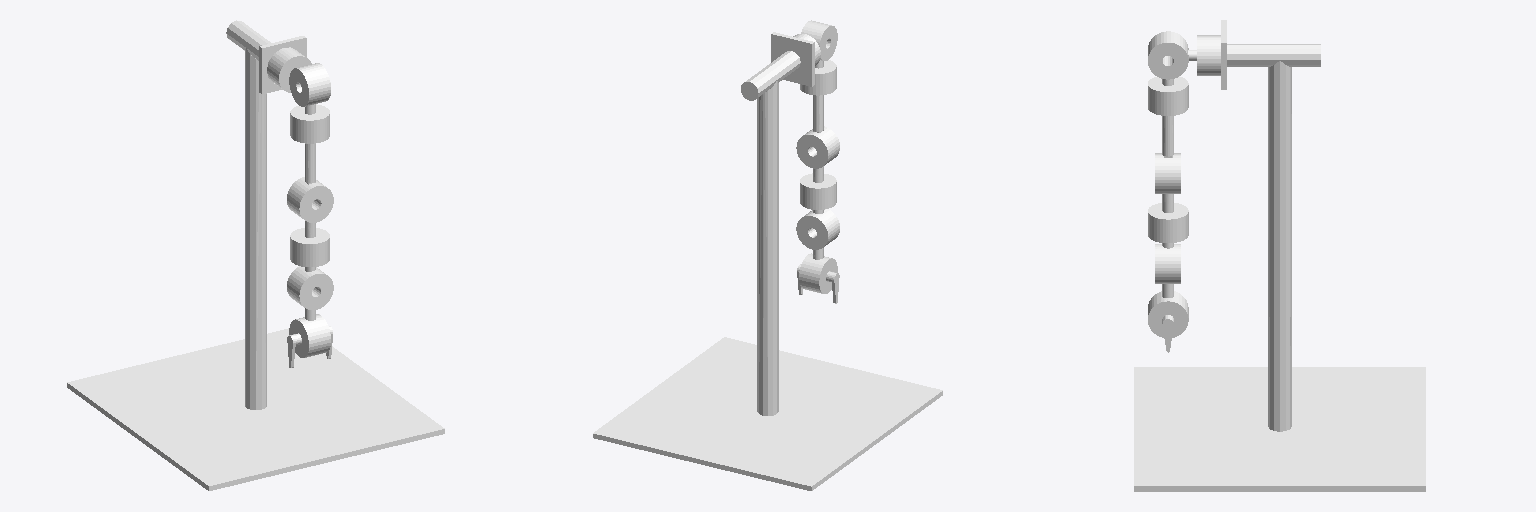
The robot description file, URDF, robot "y7_arm_lite":
<?xml version="1.0" encoding="utf-8"?>
<!-- This URDF was automatically created by SolidWorks to URDF Exporter! Originally created by Stephen Brawner (brawner@gmail.com) 
     Commit Version: 1.6.0-4-g7f85cfe  Build Version: 1.6.7995.38578
     For more information, please see http://wiki.ros.org/sw_urdf_exporter -->
<robot
  name="y7_arm_lite">
  <link
    name="base_link">
    <inertial>
      <origin
        xyz="-6.18896475667127E-08 -0.00731885816385526 0.157068118395406"
        rpy="0 0 0" />
      <mass
        value="3.68312490206078" />
      <inertia
        ixx="0.253102013480795"
        ixy="1.7503993282276E-08"
        ixz="1.22703848531346E-07"
        iyy="0.248272272534427"
        iyz="0.00460168302535419"
        izz="0.097406600502401" />
    </inertial>
    <visual>
      <origin
        xyz="0 0 0"
        rpy="0 0 0" />
      <geometry>
        <mesh
          filename="package://y7_arm_lite/meshes/base_link.STL" />
      </geometry>
      <material
        name="">
        <color
          rgba="1 1 1 1" />
      </material>
    </visual>
    <collision>
      <origin
        xyz="0 0 0"
        rpy="0 0 0" />
      <geometry>
        <mesh
          filename="package://y7_arm_lite/meshes/base_link.STL" />
      </geometry>
    </collision>
  </link>
  <link
    name="link1">
    <inertial>
      <origin
        xyz="2.87786213609239E-08 -0.048267128197082 -3.48820584322376E-08"
        rpy="0 0 0" />
      <mass
        value="0.16544065423041" />
      <inertia
        ixx="0.000103051264182943"
        ixy="-1.10488189781942E-10"
        ixz="-5.49849523717257E-11"
        iyy="7.98436744522682E-05"
        iyz="2.26815258240716E-10"
        izz="7.72024156337137E-05" />
    </inertial>
    <visual>
      <origin
        xyz="0 0 0"
        rpy="0 0 0" />
      <geometry>
        <mesh
          filename="package://y7_arm_lite/meshes/link1.STL" />
      </geometry>
      <material
        name="">
        <color
          rgba="1 1 1 1" />
      </material>
    </visual>
    <collision>
      <origin
        xyz="0 0 0"
        rpy="0 0 0" />
      <geometry>
        <mesh
          filename="package://y7_arm_lite/meshes/link1.STL" />
      </geometry>
    </collision>
  </link>
  <joint
    name="joint1"
    type="revolute">
    <origin
      xyz="0 -0.141 0.7"
      rpy="0 0 0" />
    <parent
      link="base_link" />
    <child
      link="link1" />
    <axis
      xyz="0 1 0" />
    <limit
      lower="-3.14"
      upper="3.14"
      effort="50"
      velocity="2" />
  </joint>
  <link
    name="link2">
    <inertial>
      <origin
        xyz="6.15479618241637E-10 5.76971999344256E-09 -0.0729517687885565"
        rpy="0 0 0" />
      <mass
        value="0.173508752370258" />
      <inertia
        ixx="8.24468631006998E-05"
        ixy="-2.24568112137793E-12"
        ixz="-6.59836221995086E-13"
        iyy="8.24407880527573E-05"
        iyz="-5.57638666042865E-12"
        izz="0.000106091971798337" />
    </inertial>
    <visual>
      <origin
        xyz="0 0 0"
        rpy="0 0 0" />
      <geometry>
        <mesh
          filename="package://y7_arm_lite/meshes/link2.STL" />
      </geometry>
      <material
        name="">
        <color
          rgba="1 1 1 1" />
      </material>
    </visual>
    <collision>
      <origin
        xyz="0 0 0"
        rpy="0 0 0" />
      <geometry>
        <mesh
          filename="package://y7_arm_lite/meshes/link2.STL" />
      </geometry>
    </collision>
  </link>
  <joint
    name="joint2"
    type="revolute">
    <origin
      xyz="0 -0.05 0"
      rpy="0 0 0" />
    <parent
      link="link1" />
    <child
      link="link2" />
    <axis
      xyz="1 0 0" />
    <limit
      lower="-3.14"
      upper="3.14"
      effort="50"
      velocity="2" />
  </joint>
  <link
    name="link3">
    <inertial>
      <origin
        xyz="-2.1443569564825E-12 -2.22044604925031E-16 -0.134759636112755"
        rpy="0 0 0" />
      <mass
        value="0.188272728864576" />
      <inertia
        ixx="0.000102859680851176"
        ixy="-1.34056824195818E-14"
        ixz="2.26766224584472E-14"
        iyy="0.00012870528255933"
        iyz="8.91360500184562E-21"
        izz="8.09621649695876E-05" />
    </inertial>
    <visual>
      <origin
        xyz="0 0 0"
        rpy="0 0 0" />
      <geometry>
        <mesh
          filename="package://y7_arm_lite/meshes/link3.STL" />
      </geometry>
      <material
        name="">
        <color
          rgba="1 1 1 1" />
      </material>
    </visual>
    <collision>
      <origin
        xyz="0 0 0"
        rpy="0 0 0" />
      <geometry>
        <mesh
          filename="package://y7_arm_lite/meshes/link3.STL" />
      </geometry>
    </collision>
  </link>
  <joint
    name="joint3"
    type="revolute">
    <origin
      xyz="0 0 -0.0755"
      rpy="0 0 0" />
    <parent
      link="link2" />
    <child
      link="link3" />
    <axis
      xyz="0 0 1" />
    <limit
      lower="-3.14"
      upper="3.14"
      effort="50"
      velocity="2" />
  </joint>
  <link
    name="link4">
    <inertial>
      <origin
        xyz="5.65645560691743E-09 -8.16500755895788E-11 -0.0898766067475472"
        rpy="0 0 0" />
      <mass
        value="0.170151895219343" />
      <inertia
        ixx="8.09565847273596E-05"
        ixy="1.47050798557356E-13"
        ixz="-2.85295448724911E-12"
        iyy="8.09604119058479E-05"
        iyz="5.41207071260792E-14"
        izz="0.000105923409833927" />
    </inertial>
    <visual>
      <origin
        xyz="0 0 0"
        rpy="0 0 0" />
      <geometry>
        <mesh
          filename="package://y7_arm_lite/meshes/link4.STL" />
      </geometry>
      <material
        name="">
        <color
          rgba="1 1 1 1" />
      </material>
    </visual>
    <collision>
      <origin
        xyz="0 0 0"
        rpy="0 0 0" />
      <geometry>
        <mesh
          filename="package://y7_arm_lite/meshes/link4.STL" />
      </geometry>
    </collision>
  </link>
  <joint
    name="joint4"
    type="revolute">
    <origin
      xyz="0 0 -0.1475"
      rpy="0 0 0" />
    <parent
      link="link3" />
    <child
      link="link4" />
    <axis
      xyz="0 1 0" />
    <limit
      lower="-3.14"
      upper="3.14"
      effort="50"
      velocity="2" />
  </joint>
  <link
    name="link5">
    <inertial>
      <origin
        xyz="1.22480215582446E-10 5.55111512312578E-17 -0.0757683803195806"
        rpy="0 0 0" />
      <mass
        value="0.165433389389251" />
      <inertia
        ixx="7.85421322406978E-05"
        ixy="8.08536583525422E-13"
        ixz="-1.17103405314417E-12"
        iyy="0.000104390419353834"
        iyz="-1.3100560696249E-20"
        izz="7.98426194741593E-05" />
    </inertial>
    <visual>
      <origin
        xyz="0 0 0"
        rpy="0 0 0" />
      <geometry>
        <mesh
          filename="package://y7_arm_lite/meshes/link5.STL" />
      </geometry>
      <material
        name="">
        <color
          rgba="1 1 1 1" />
      </material>
    </visual>
    <collision>
      <origin
        xyz="0 0 0"
        rpy="0 0 0" />
      <geometry>
        <mesh
          filename="package://y7_arm_lite/meshes/link5.STL" />
      </geometry>
    </collision>
  </link>
  <joint
    name="joint5"
    type="revolute">
    <origin
      xyz="0 0 -0.0925"
      rpy="0 0 0" />
    <parent
      link="link4" />
    <child
      link="link5" />
    <axis
      xyz="0 0 -1" />
    <limit
      lower="-3.14"
      upper="3.14"
      effort="50"
      velocity="2" />
  </joint>
  <link
    name="link6">
    <inertial>
      <origin
        xyz="2.84234111815309E-08 4.41003553952601E-08 -0.0927036607374384"
        rpy="0 0 0" />
      <mass
        value="0.167122907481511" />
      <inertia
        ixx="0.000123367435383306"
        ixy="9.51564512301758E-12"
        ixz="2.17664598085861E-12"
        iyy="9.75229312937733E-05"
        iyz="1.07225511950256E-11"
        izz="7.99293933142922E-05" />
    </inertial>
    <visual>
      <origin
        xyz="0 0 0"
        rpy="0 0 0" />
      <geometry>
        <mesh
          filename="package://y7_arm_lite/meshes/link6.STL" />
      </geometry>
      <material
        name="">
        <color
          rgba="1 1 1 1" />
      </material>
    </visual>
    <collision>
      <origin
        xyz="0 0 0"
        rpy="0 0 0" />
      <geometry>
        <mesh
          filename="package://y7_arm_lite/meshes/link6.STL" />
      </geometry>
    </collision>
  </link>
  <joint
    name="joint6"
    type="revolute">
    <origin
      xyz="0 0 -0.0775"
      rpy="0 0 0" />
    <parent
      link="link5" />
    <child
      link="link6" />
    <axis
      xyz="0 1 0" />
    <limit
      lower="-3.14"
      upper="3.14"
      effort="50"
      velocity="2" />
  </joint>
  <link
    name="link7">
    <inertial>
      <origin
        xyz="2.02635381577223E-16 -1.38777878078145E-17 -0.00508404154155806"
        rpy="0 0 0" />
      <mass
        value="0.031922315763199" />
      <inertia
        ixx="5.75852930948012E-06"
        ixy="-7.89447541267279E-20"
        ixz="7.16667955866577E-20"
        iyy="2.83655037622807E-05"
        iyz="4.72508562557759E-22"
        izz="2.40932613924971E-05" />
    </inertial>
    <visual>
      <origin
        xyz="0 0 0"
        rpy="0 0 0" />
      <geometry>
        <mesh
          filename="package://y7_arm_lite/meshes/link7.STL" />
      </geometry>
      <material
        name="">
        <color
          rgba="1 1 1 1" />
      </material>
    </visual>
    <collision>
      <origin
        xyz="0 0 0"
        rpy="0 0 0" />
      <geometry>
        <mesh
          filename="package://y7_arm_lite/meshes/link7.STL" />
      </geometry>
    </collision>
  </link>
  <joint
    name="joint7"
    type="revolute">
    <origin
      xyz="0 0 -0.095"
      rpy="0 0 0" />
    <parent
      link="link6" />
    <child
      link="link7" />
    <axis
      xyz="1 0 0" />
    <limit
      lower="-3.14"
      upper="3.14"
      effort="50"
      velocity="2" />
  </joint>
</robot>

--- What the picture shows (computed from the rendered views, not written in the file) ---
3 views of the same robot in one strip: view 1: azimuth 30°, elevation 25°; view 2: azimuth 150°, elevation 25°; view 3: azimuth 270°, elevation 25° (orthographic).
Model y7_arm_lite with 8 links and 7 joints (7 revolute), rooted at base_link, posed every joint at zero.
Visible links, largest first — view 1: base_link, link3, link5, link4, link1, link2, link6; view 2: base_link, link3, link5, link4, link6, link1, link2; view 3: base_link, link1, link4, link3, link6, link2, link5.
Link boxes in pixels (bbox=[...]): base_link: bbox=[67, 20, 444, 490]; link3: bbox=[287, 144, 333, 222]; link5: bbox=[287, 266, 333, 309]; link4: bbox=[290, 221, 329, 266]; link1: bbox=[289, 63, 330, 106]; link2: bbox=[290, 104, 329, 143]; link6: bbox=[289, 308, 330, 357]; base_link: bbox=[593, 32, 942, 490]; link3: bbox=[796, 95, 839, 168]; link5: bbox=[796, 209, 839, 249]; link4: bbox=[800, 166, 836, 209]; link6: bbox=[799, 248, 837, 293]; link1: bbox=[801, 20, 837, 60]; link2: bbox=[800, 60, 836, 95]; base_link: bbox=[1134, 20, 1425, 491]; link1: bbox=[1148, 31, 1196, 79]; link4: bbox=[1148, 194, 1188, 242]; link3: bbox=[1155, 116, 1180, 193]; link6: bbox=[1148, 284, 1188, 337]; link2: bbox=[1148, 76, 1188, 115]; link5: bbox=[1155, 243, 1180, 283].
Bounding box of the posed robot: 0.48 × 0.5 × 0.755 m (x, y, z).
Meshes: 8 distinct files referenced, 8 mesh visuals loaded (8 binary STL).
